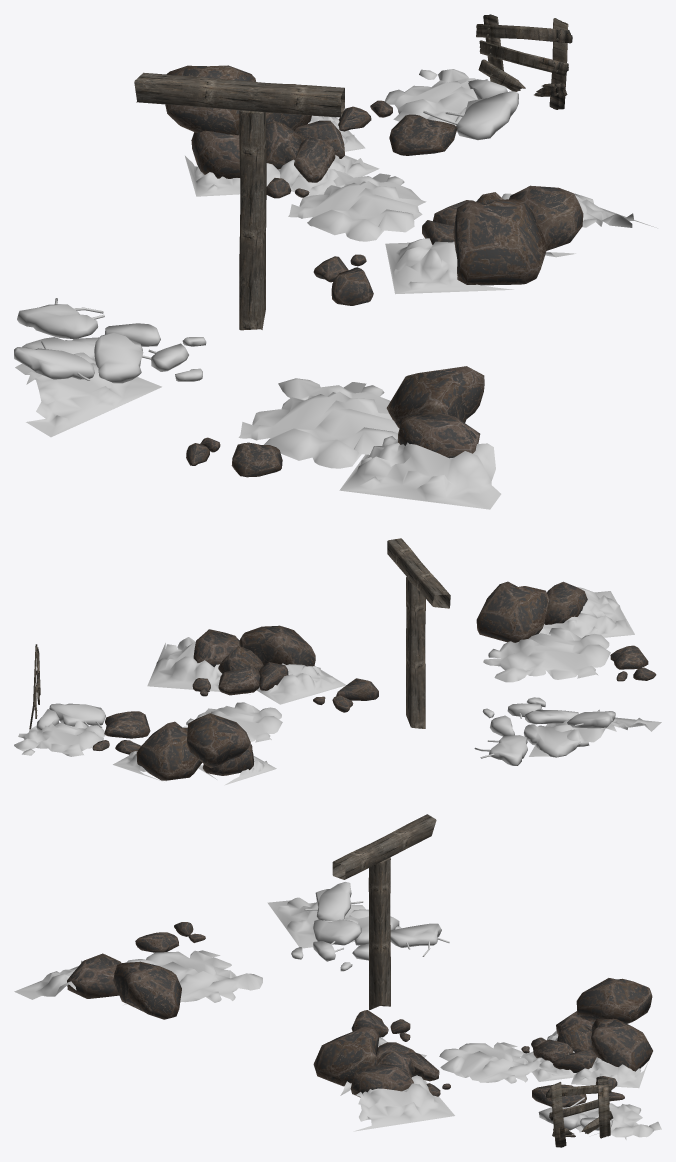
Rendered from 90deg_turn_rough_terrain.dae.
The picture shows the model from 3 angles, top to bottom: view 1: azimuth 30°, elevation 25°; view 2: azimuth 150°, elevation 25°; view 3: azimuth 270°, elevation 25°; orthographic projection. The views are drawn at different scales.
Visible parts, largest first — view 1: RockPile, Rocks, Wood, Concrete; view 2: Rocks, RockPile, Concrete, Wood; view 3: Rocks, RockPile, Wood, Concrete.
Boxes of the visible parts, box(x1,y1,x2,y2) form: RockPile: box(15, 69, 657, 509); Rocks: box(165, 65, 583, 477); Wood: box(134, 14, 572, 330); Concrete: box(14, 79, 518, 383); Rocks: box(92, 581, 656, 780); RockPile: box(14, 587, 661, 785); Concrete: box(36, 697, 615, 765); Wood: box(29, 538, 450, 729); Rocks: box(67, 922, 652, 1107); RockPile: box(14, 897, 661, 1139); Wood: box(332, 814, 613, 1147); Concrete: box(291, 882, 613, 1130).
Size of the model in its own units: 1208 by 1338 by 382.
